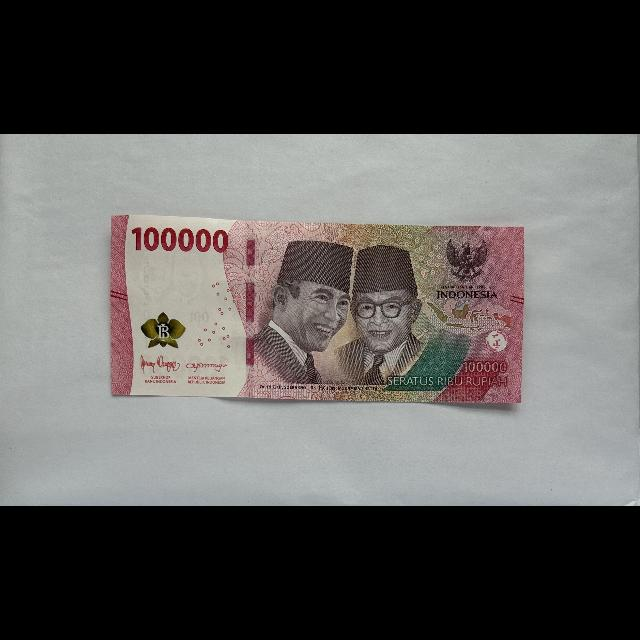Asli-100k: (109, 214, 525, 405)
Tinta-Asli-100k: (140, 311, 187, 350)
